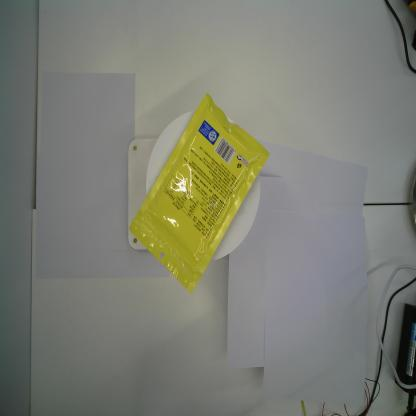Dried Fruit: (128, 92, 270, 296)
